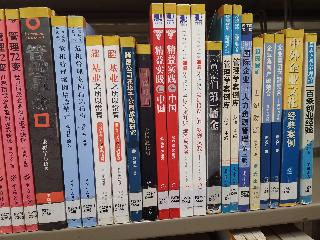book-spine: (20, 4, 69, 233), (5, 8, 40, 231), (48, 14, 83, 229), (65, 15, 98, 228), (0, 9, 26, 233), (85, 34, 113, 227), (103, 35, 129, 224), (278, 28, 305, 207), (119, 36, 143, 223), (150, 4, 169, 220), (136, 43, 159, 221), (188, 4, 207, 217), (163, 1, 180, 220), (178, 5, 193, 217), (220, 4, 235, 213), (299, 33, 316, 205), (258, 32, 274, 210), (237, 13, 251, 211), (248, 38, 264, 210), (269, 32, 284, 210), (207, 40, 222, 215), (229, 4, 241, 213)
